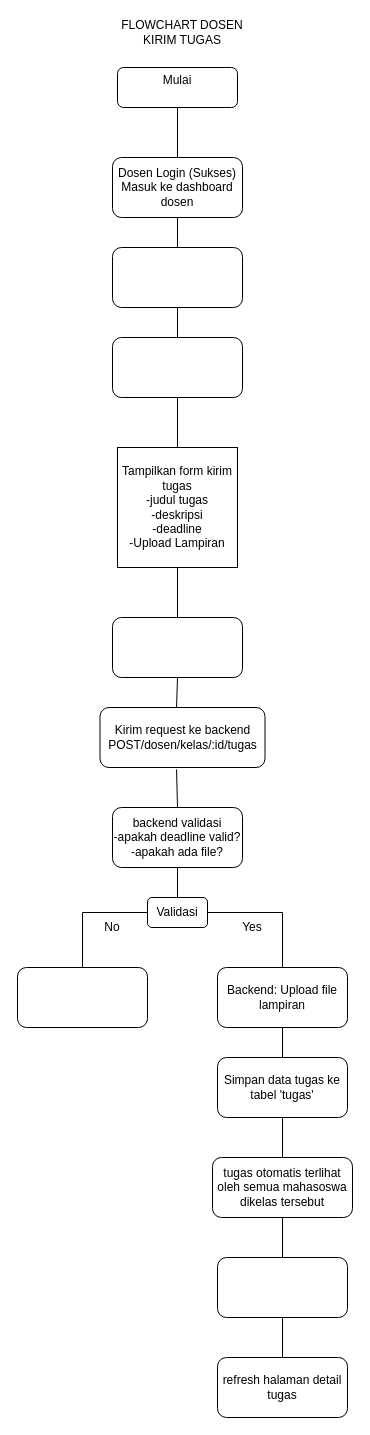
Some shapes in this 370 by 1435 pixel diagram are drawn without their labels. The shapes that lost their labels are listed below. From the top down, each one's box as (x1, y1, x2, y2) in pixels, then its label:
(112, 246, 242, 308): Pilih salah satu kelas (Klik Nama Kelas)
(112, 336, 242, 398): Masuk ke halaman detail kelas
(112, 616, 242, 678): Dosen isi form & klik tombol "Kirim Tugas"
(16, 966, 148, 1028): Tampilkan pesan error "data tidak valid"
(216, 1256, 348, 1318): kirim response "tugas berhasil dikirim"
